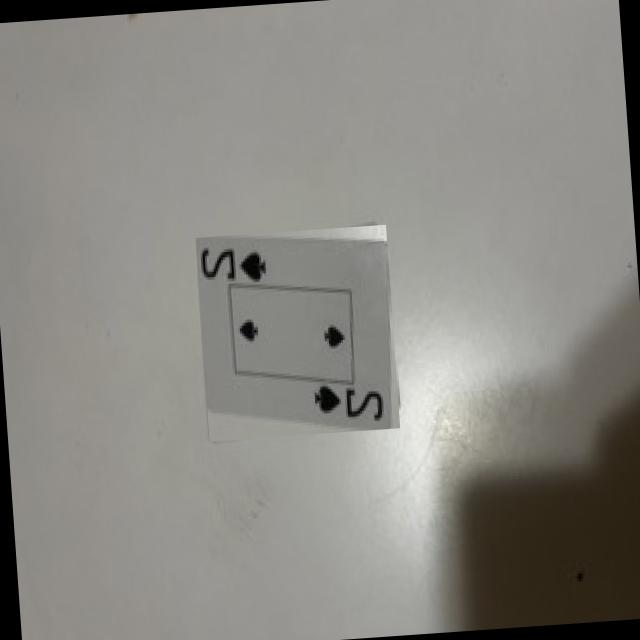2 of spades: (196, 235, 390, 429)
